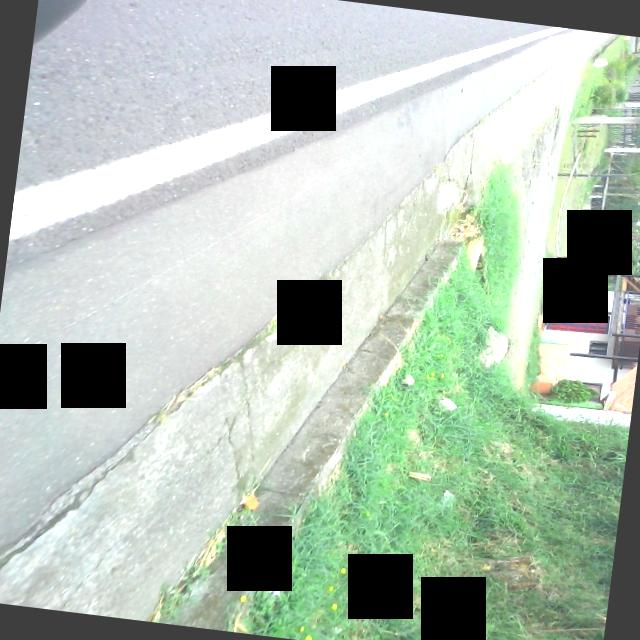DITCH: (0, 0, 605, 640), (0, 55, 602, 640)
